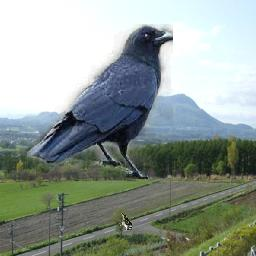Crow: (27, 25, 173, 180)
Woodpecker: (118, 212, 132, 230)
